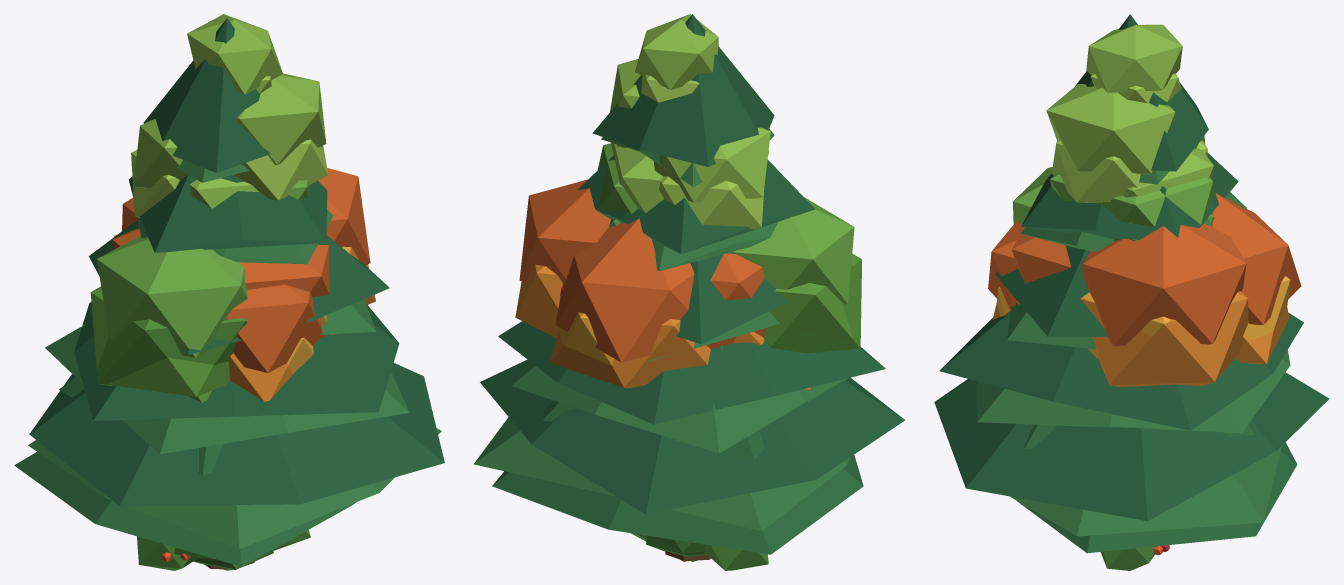
File: nature.glb
3 views of the same model, side by side, from view 1: azimuth 30°, elevation 25°; view 2: azimuth 150°, elevation 25°; view 3: azimuth 270°, elevation 25° (orthographic).
Visible parts, largest first — view 1: pine2, autumn1, pine1, birch1, pine0, autumn0, autumn2, birch0, bush1; view 2: pine2, autumn1, pine1, pine0, birch1, autumn0, autumn2, birch0, bush1; view 3: pine2, autumn1, pine1, birch1, autumn0, pine0, birch0, autumn2, bush1.
Boxes of the visible parts, x1=… form: pine2: x1=29, y1=18, x2=444, y2=506; autumn1: x1=96, y1=168, x2=370, y2=569; pine1: x1=28, y1=160, x2=441, y2=549; birch1: x1=133, y1=14, x2=326, y2=208; pine0: x1=14, y1=377, x2=356, y2=566; autumn0: x1=90, y1=235, x2=375, y2=401; autumn2: x1=97, y1=246, x2=350, y2=563; birch0: x1=131, y1=64, x2=328, y2=217; bush1: x1=137, y1=530, x2=310, y2=570; pine2: x1=480, y1=14, x2=904, y2=514; autumn1: x1=519, y1=143, x2=854, y2=362; pine1: x1=474, y1=128, x2=850, y2=531; pine0: x1=492, y1=346, x2=863, y2=554; birch1: x1=610, y1=14, x2=770, y2=213; autumn0: x1=515, y1=219, x2=853, y2=561; autumn2: x1=558, y1=254, x2=861, y2=559; birch0: x1=616, y1=75, x2=764, y2=229; bush1: x1=631, y1=533, x2=768, y2=570; pine2: x1=934, y1=14, x2=1329, y2=521; autumn1: x1=988, y1=167, x2=1301, y2=346; pine1: x1=977, y1=170, x2=1290, y2=536; birch1: x1=1046, y1=24, x2=1213, y2=197; autumn0: x1=992, y1=214, x2=1289, y2=386; pine0: x1=1016, y1=421, x2=1297, y2=553; birch0: x1=1052, y1=73, x2=1207, y2=223; autumn2: x1=996, y1=239, x2=1290, y2=358; bush1: x1=1100, y1=546, x2=1155, y2=570.
Size of the model in its own units: 3.79 by 5.41 by 3.56.
